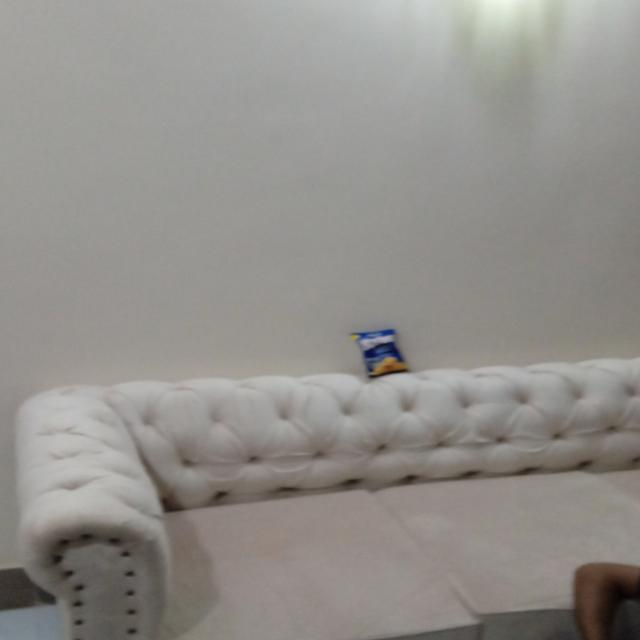Plastic: (359, 331, 404, 377)
